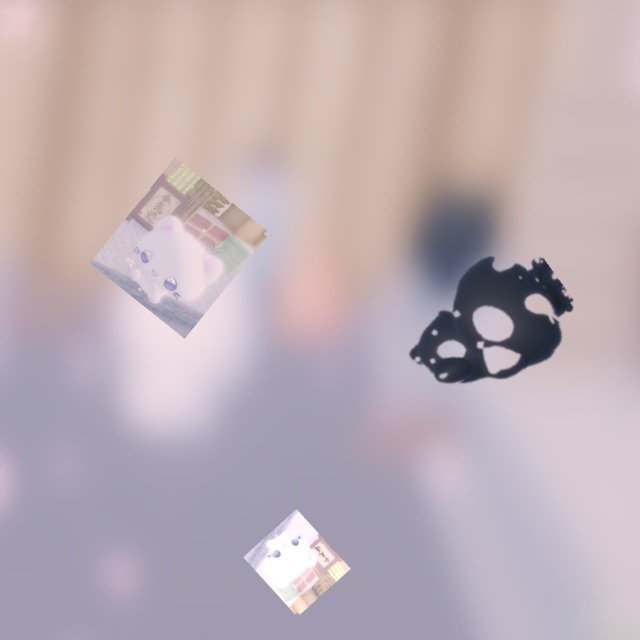urso_branco: (90, 157, 270, 339), (243, 509, 351, 617)
urso_preto: (372, 219, 596, 435)
